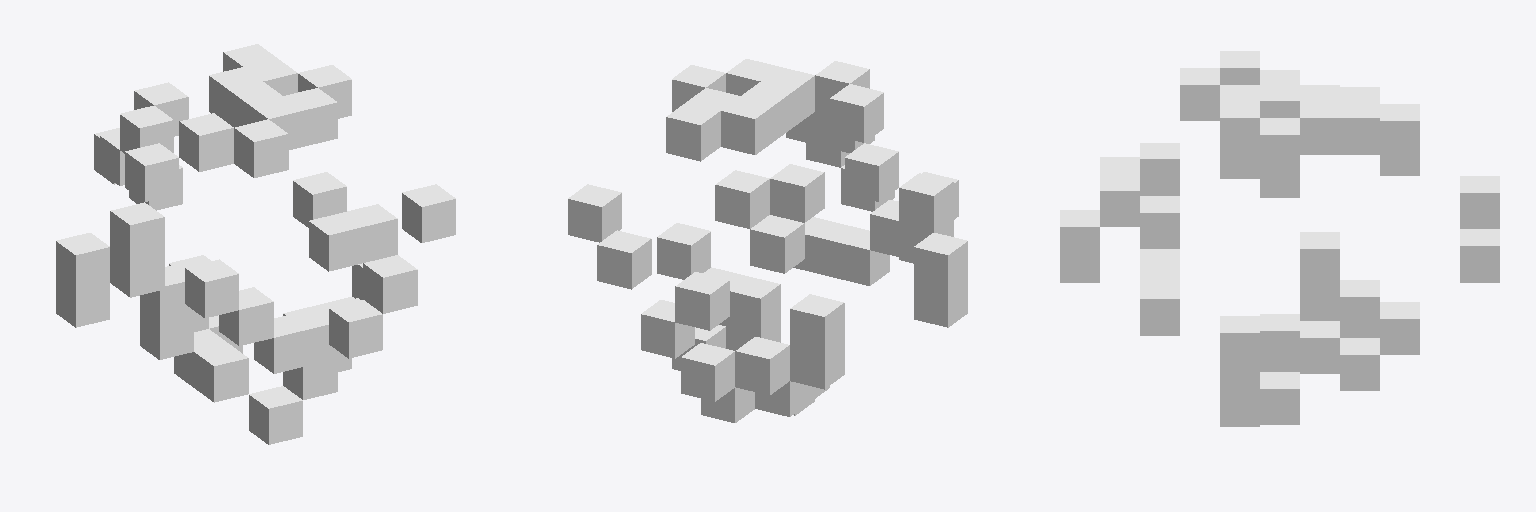
3 renders of one model, left to right at view 1: azimuth 30°, elevation 25°; view 2: azimuth 150°, elevation 25°; view 3: azimuth 270°, elevation 25°, orthographic.
Parts seen in each view (by area): view 1: object 1; view 2: object 1; view 3: object 1.
Part boxes in pixels (bbox=[...]): object 1: bbox=[56, 44, 455, 444]; object 1: bbox=[568, 59, 967, 422]; object 1: bbox=[1060, 51, 1499, 426].
Size of the model in its own units: 1.1 by 0.9 by 1.1.
Materials: 1 (1 with a texture image).